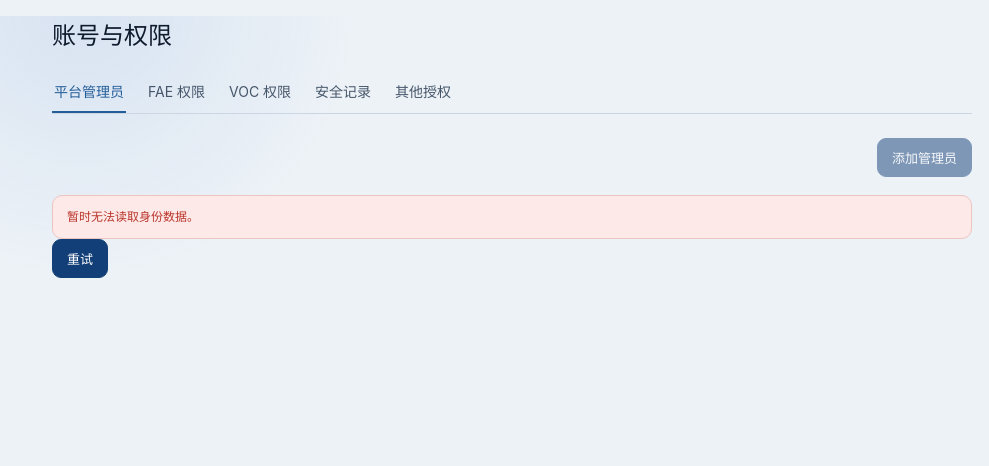
IdentityManagementPage › does not restart an in-flight grant after switching away and back
Click the button "FAE 权限": {"x": 176, "y": 92} x1=146 y1=71 x2=207 y2=113
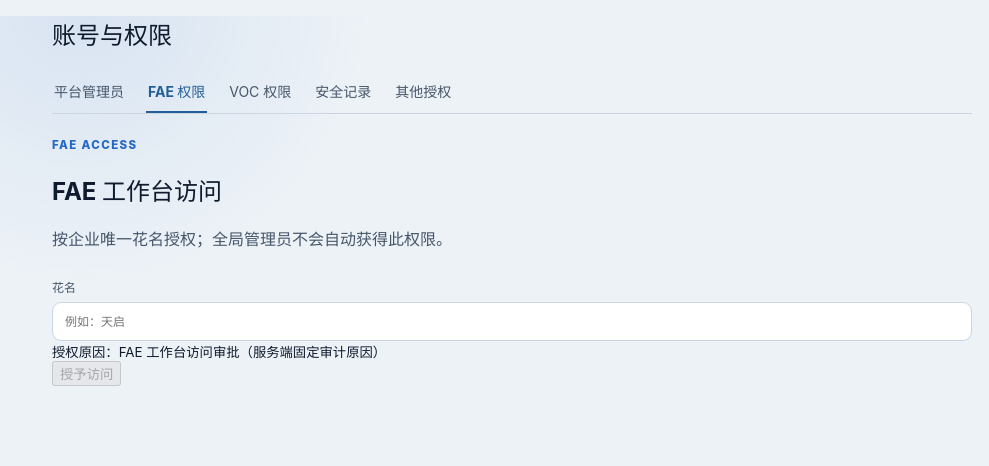
In the field labelled "花名": {"x": 512, "y": 322} x1=52 y1=302 x2=972 y2=341, type "合成花名"
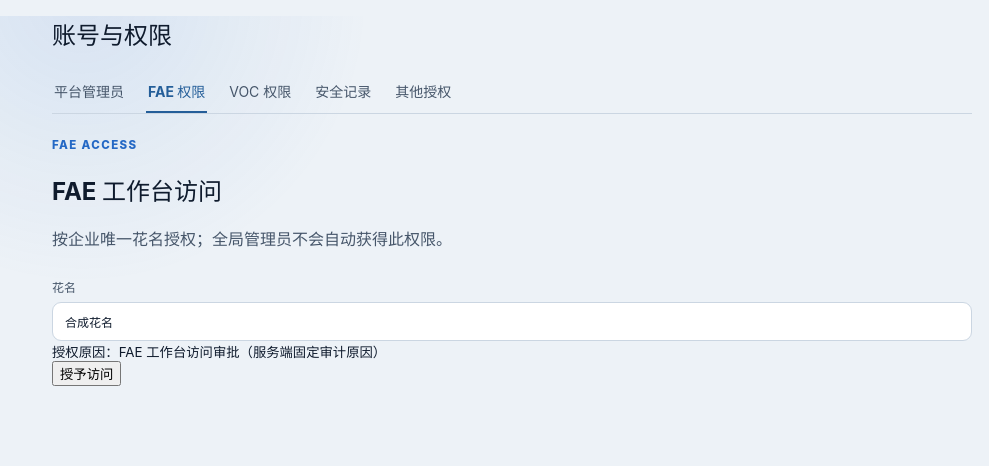
Click the button "授予访问": {"x": 87, "y": 374} x1=52 y1=361 x2=121 y2=386
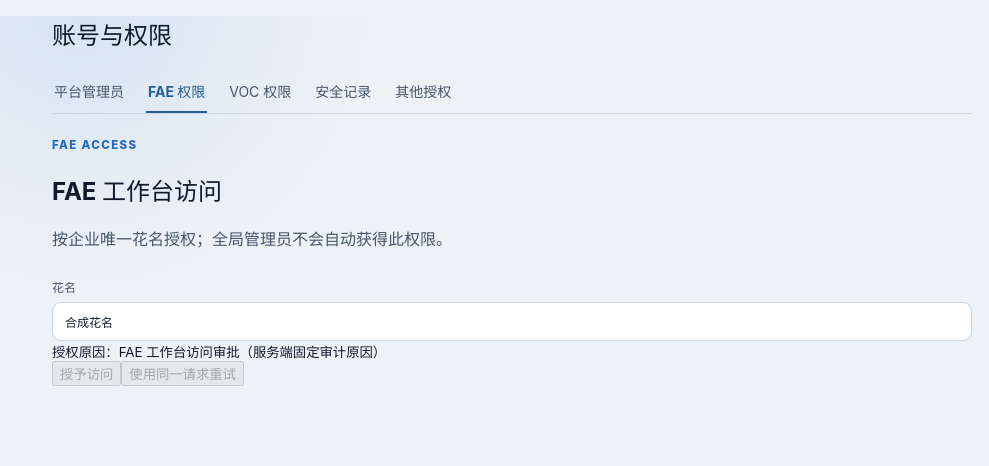
Click the button "平台管理员": {"x": 89, "y": 92} x1=52 y1=71 x2=126 y2=113
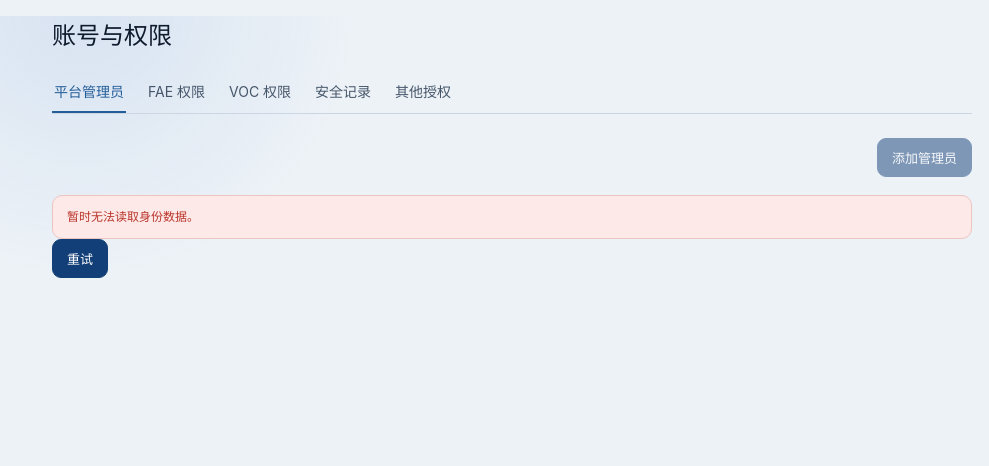
Click the button "FAE 权限": {"x": 176, "y": 92} x1=146 y1=71 x2=207 y2=113
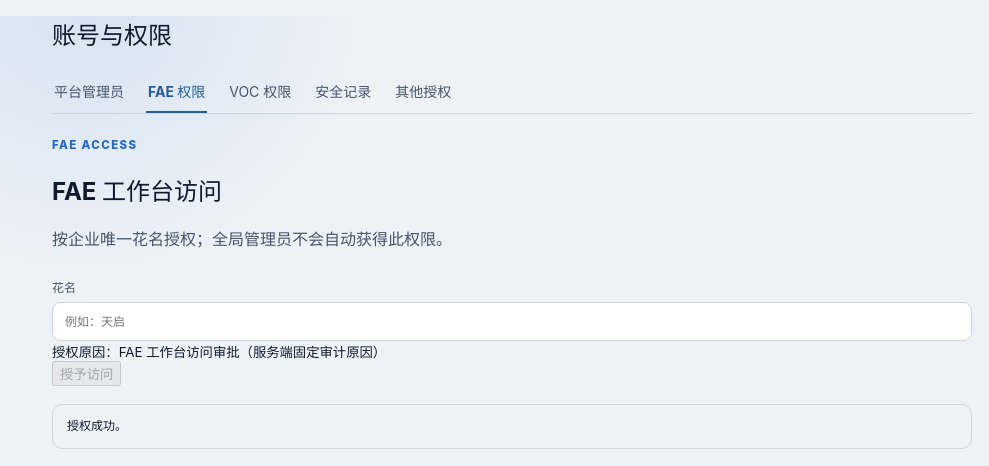
Now the element that starts with "FAE ACCESS" shows "授权成功", box x1=67 y1=418 x2=127 y2=433
